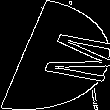M_W: (7, 26, 103, 84)
